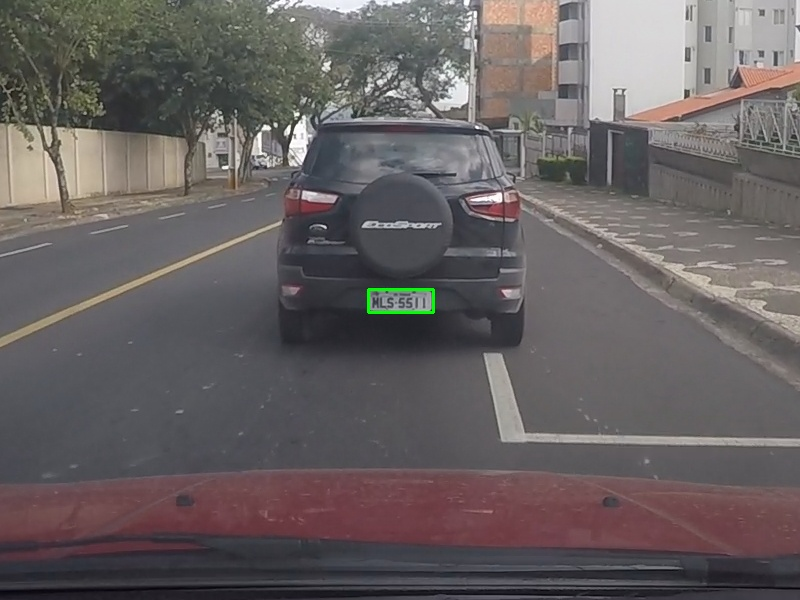placa: (368, 289, 433, 312)
